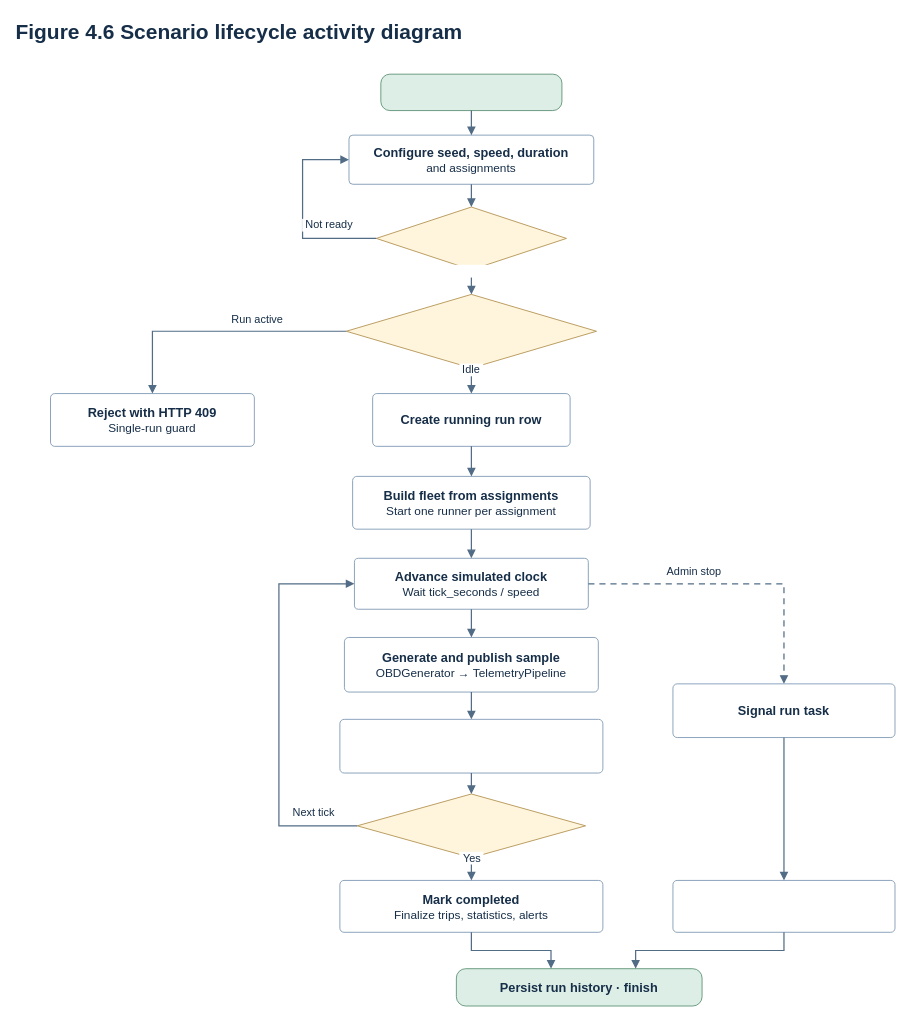
Image size: 911x1022. Some labels were removed from this diagram. Here are the shapes that lost their labels. From the top down, the centre of each, then its label:
the point at 471,92: Scenario created
the point at 470,238: Activate scenario
the point at 471,270: Ready
the point at 471,330: Launch requested Run already active?
the point at 471,745: Process tick outputs Analytics, persistence, live delivery
the point at 471,825: Duration reached?
the point at 783,906: Mark stopped Write end time
